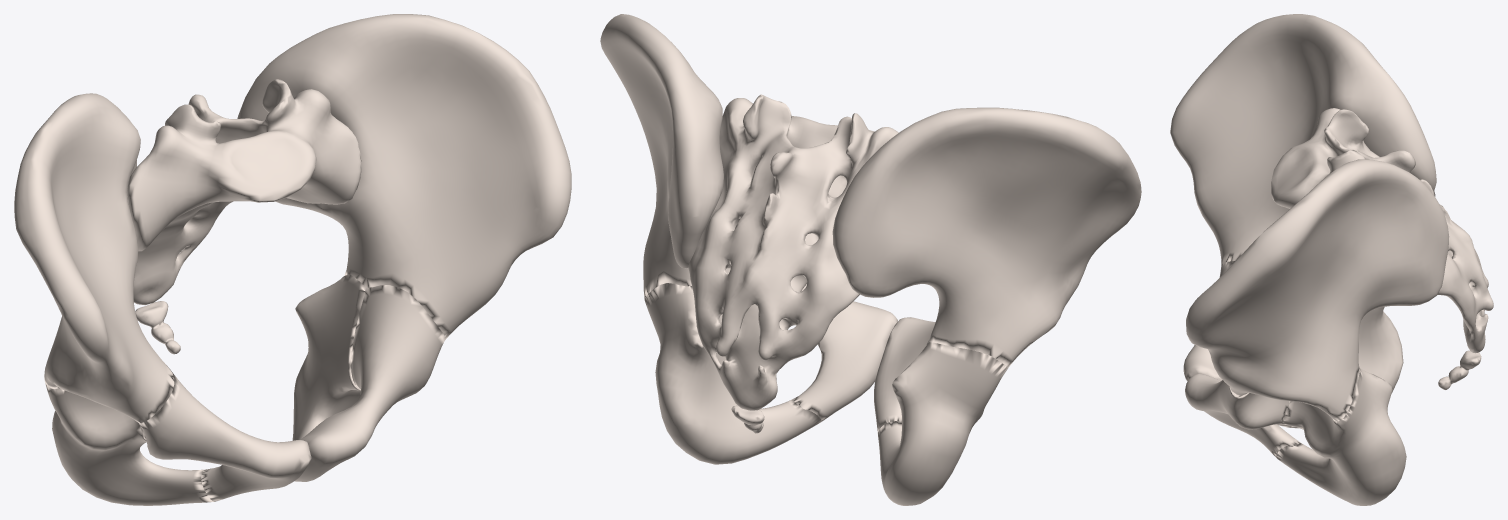
3 renders of one model, left to right at view 1: azimuth 30°, elevation 25°; view 2: azimuth 150°, elevation 25°; view 3: azimuth 270°, elevation 25°, orthographic. The views are drawn at different scales.
Parts seen in each view (by area): view 1: VH_M_ilium_compact_bone_L, VH_M_ilium_compact_bone_R, VH_M_sacrum, VH_M_pubis_compact_bone_L, VH_M_ischium_compact_bone_R, VH_M_pubis_compact_bone_R, VH_M_ischium_compact_bone_L, VH_M_coccyx; view 2: VH_M_ilium_compact_bone_R, VH_M_sacrum, VH_M_ilium_compact_bone_L, VH_M_ischium_compact_bone_L, VH_M_ischium_compact_bone_R, VH_M_pubis_compact_bone_L, VH_M_pubis_compact_bone_R; view 3: VH_M_ilium_compact_bone_L, VH_M_ilium_compact_bone_R, VH_M_ischium_compact_bone_L, VH_M_sacrum, VH_M_pubis_compact_bone_L, VH_M_ischium_compact_bone_R, VH_M_pubis_compact_bone_R, VH_M_coccyx.
Boxes of the visible parts, box(x1,y1,x2,y2) form: VH_M_ilium_compact_bone_L: box(237, 14, 571, 338); VH_M_ilium_compact_bone_R: box(14, 93, 174, 423); VH_M_sacrum: box(127, 79, 361, 305); VH_M_pubis_compact_bone_L: box(295, 285, 445, 481); VH_M_ischium_compact_bone_R: box(45, 384, 214, 505); VH_M_pubis_compact_bone_R: box(139, 369, 311, 501); VH_M_ischium_compact_bone_L: box(292, 274, 365, 440); VH_M_coccyx: box(135, 301, 180, 354); VH_M_ilium_compact_bone_R: box(832, 107, 1141, 367); VH_M_sacrum: box(688, 94, 898, 410); VH_M_ilium_compact_bone_L: box(600, 14, 723, 299); VH_M_ischium_compact_bone_L: box(644, 268, 821, 464); VH_M_ischium_compact_bone_R: box(878, 342, 1007, 505); VH_M_pubis_compact_bone_L: box(793, 284, 897, 421); VH_M_pubis_compact_bone_R: box(874, 317, 935, 433); VH_M_ilium_compact_bone_L: box(1186, 159, 1449, 421); VH_M_ilium_compact_bone_R: box(1170, 14, 1436, 264); VH_M_ischium_compact_bone_L: box(1276, 367, 1406, 505); VH_M_sacrum: box(1271, 108, 1493, 353); VH_M_pubis_compact_bone_L: box(1185, 373, 1299, 457); VH_M_ischium_compact_bone_R: box(1289, 307, 1403, 428); VH_M_pubis_compact_bone_R: box(1183, 261, 1291, 427); VH_M_coccyx: box(1438, 350, 1481, 389).
Size of the model in its own units: 0.2835 by 0.2185 by 0.1728.
